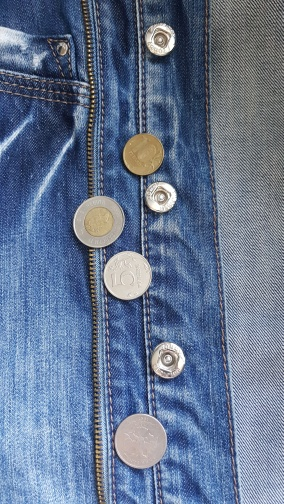coin: (114, 413, 168, 470), (71, 195, 126, 249), (102, 250, 153, 303), (121, 132, 165, 176)
